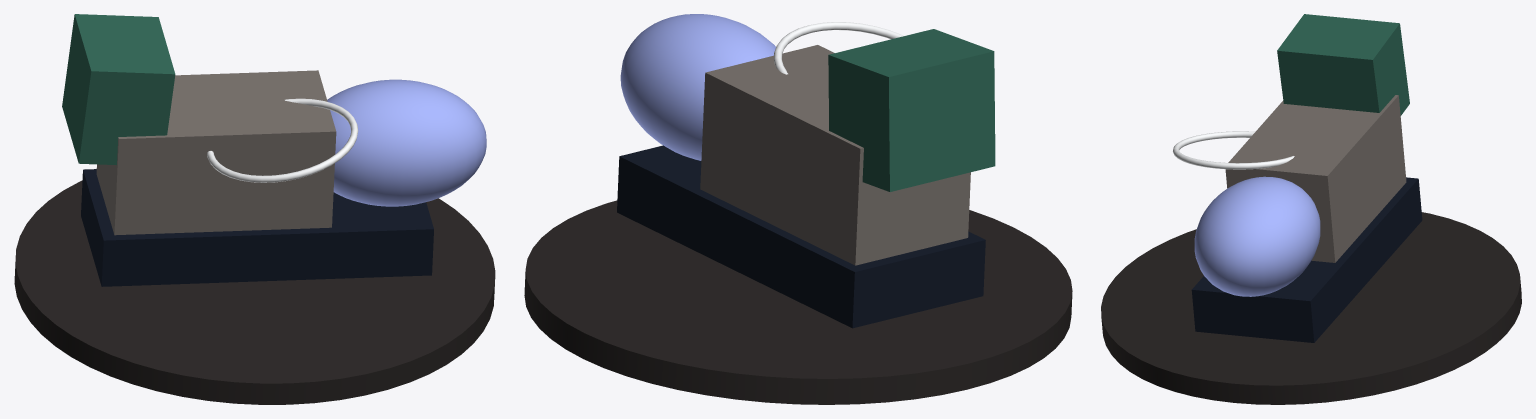
Rendered from Shoes.glb.
3 renders of one model, left to right at view 1: azimuth 30°, elevation 25°; view 2: azimuth 150°, elevation 25°; view 3: azimuth 270°, elevation 25°, orthographic. The views are drawn at different scales.
Size of the model in its own units: 2.36 by 1.55 by 2.36.
